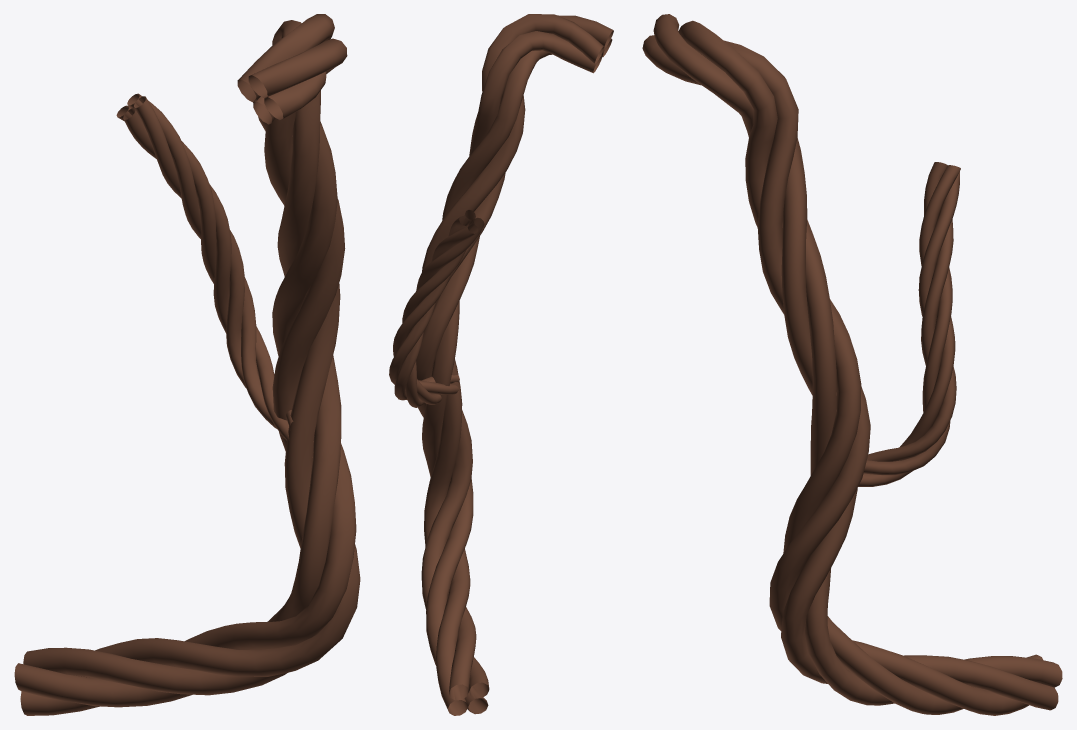
File: Racine mur 1.fbx
3 renders of one model, left to right at view 1: azimuth 30°, elevation 25°; view 2: azimuth 150°, elevation 25°; view 3: azimuth 270°, elevation 25°, orthographic. The views are drawn at different scales.
Visible parts, largest first — view 1: Cercle, Cercle.001; view 2: Cercle, Cercle.001; view 3: Cercle, Cercle.001.
Boxes of the visible parts, left/top/right/bottom form: Cercle: left=14, top=14, right=360, bottom=715; Cercle.001: left=116, top=93, right=314, bottom=441; Cercle: left=416, top=14, right=613, bottom=715; Cercle.001: left=389, top=210, right=484, bottom=407; Cercle: left=642, top=14, right=1062, bottom=715; Cercle.001: left=858, top=162, right=960, bottom=486.
Bounding box in the file's own units: 525 × 1888 × 1007.
